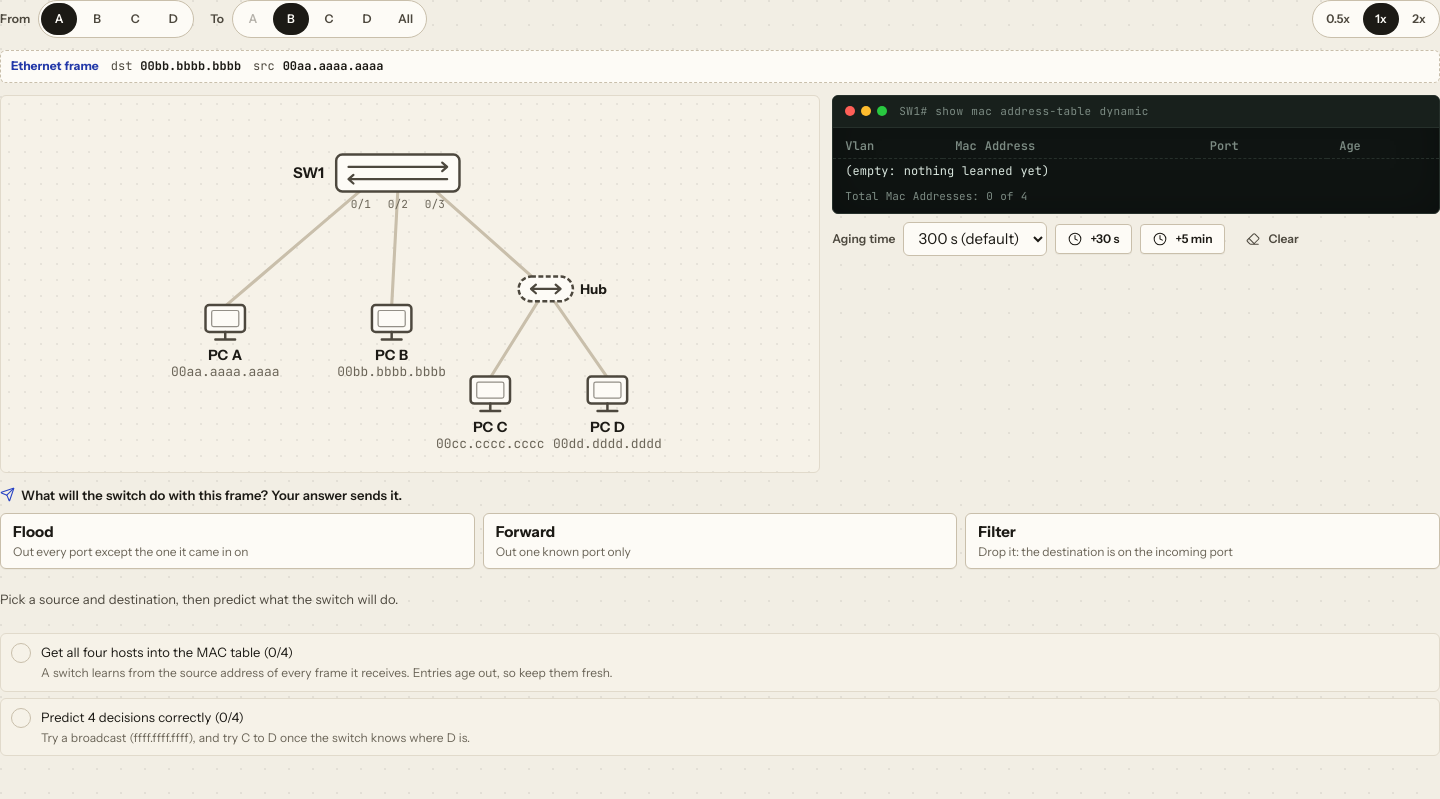
Test: network widgets render › mac-learning: a prediction sends a frame and the switch learns
Click the button "Flood Out every port except the one it came in on".
click(237, 541)  # box [0,513,475,569]
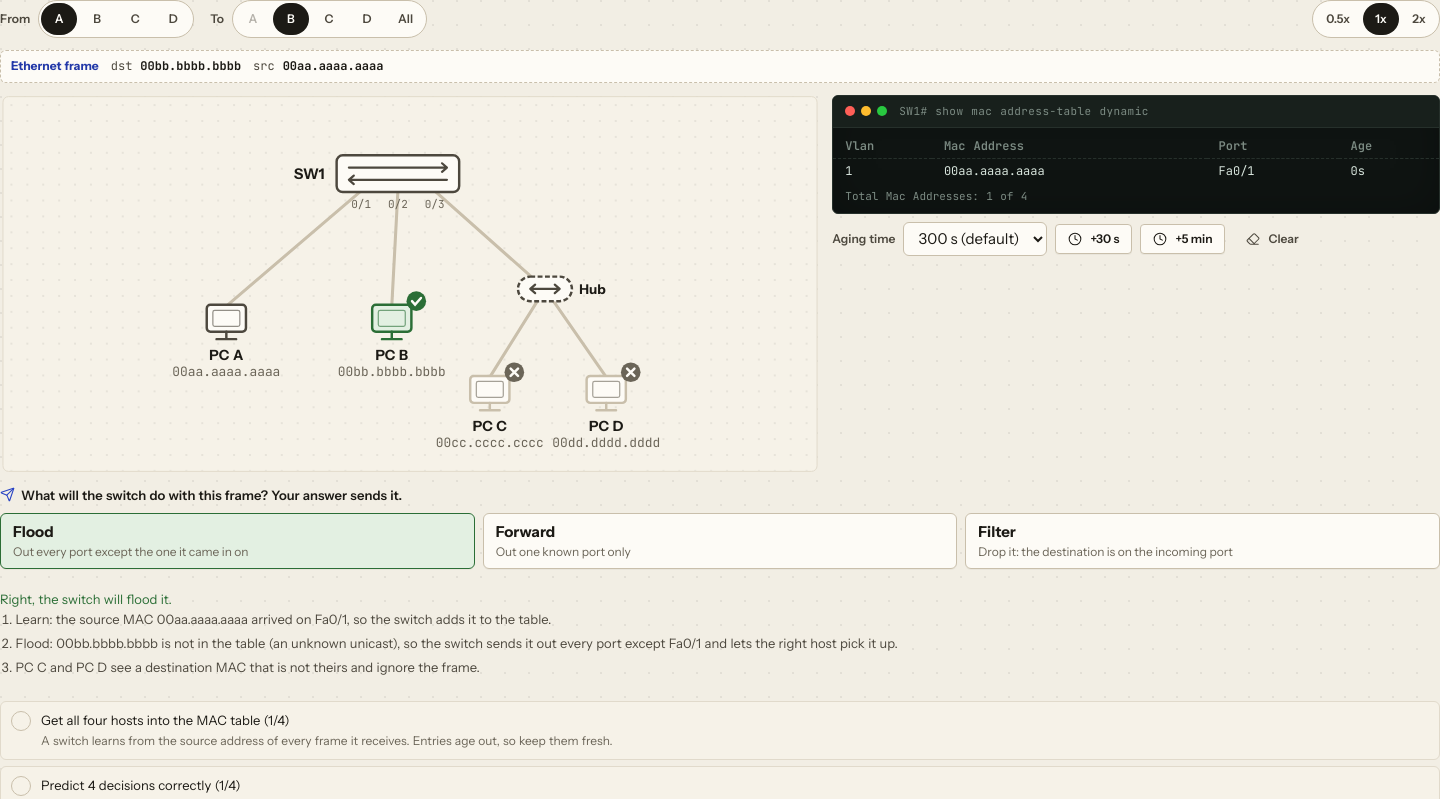
Result: the table shows "00aa.aaaa.aaaa" at [944,163,1045,179]
